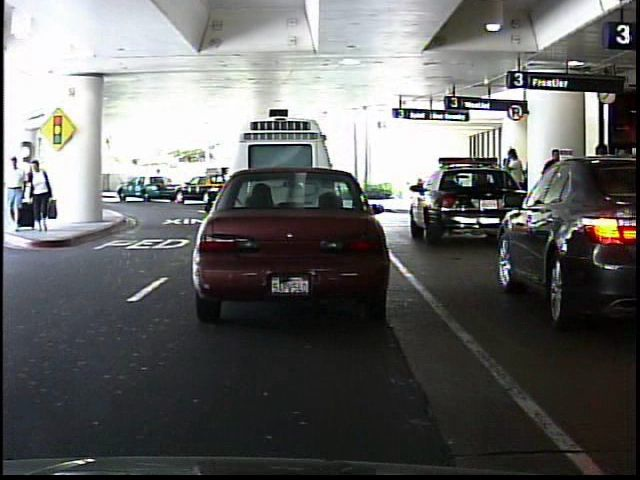person: (500, 144, 531, 230), (25, 156, 55, 235), (4, 154, 28, 231), (150, 165, 168, 199), (540, 142, 563, 165)
